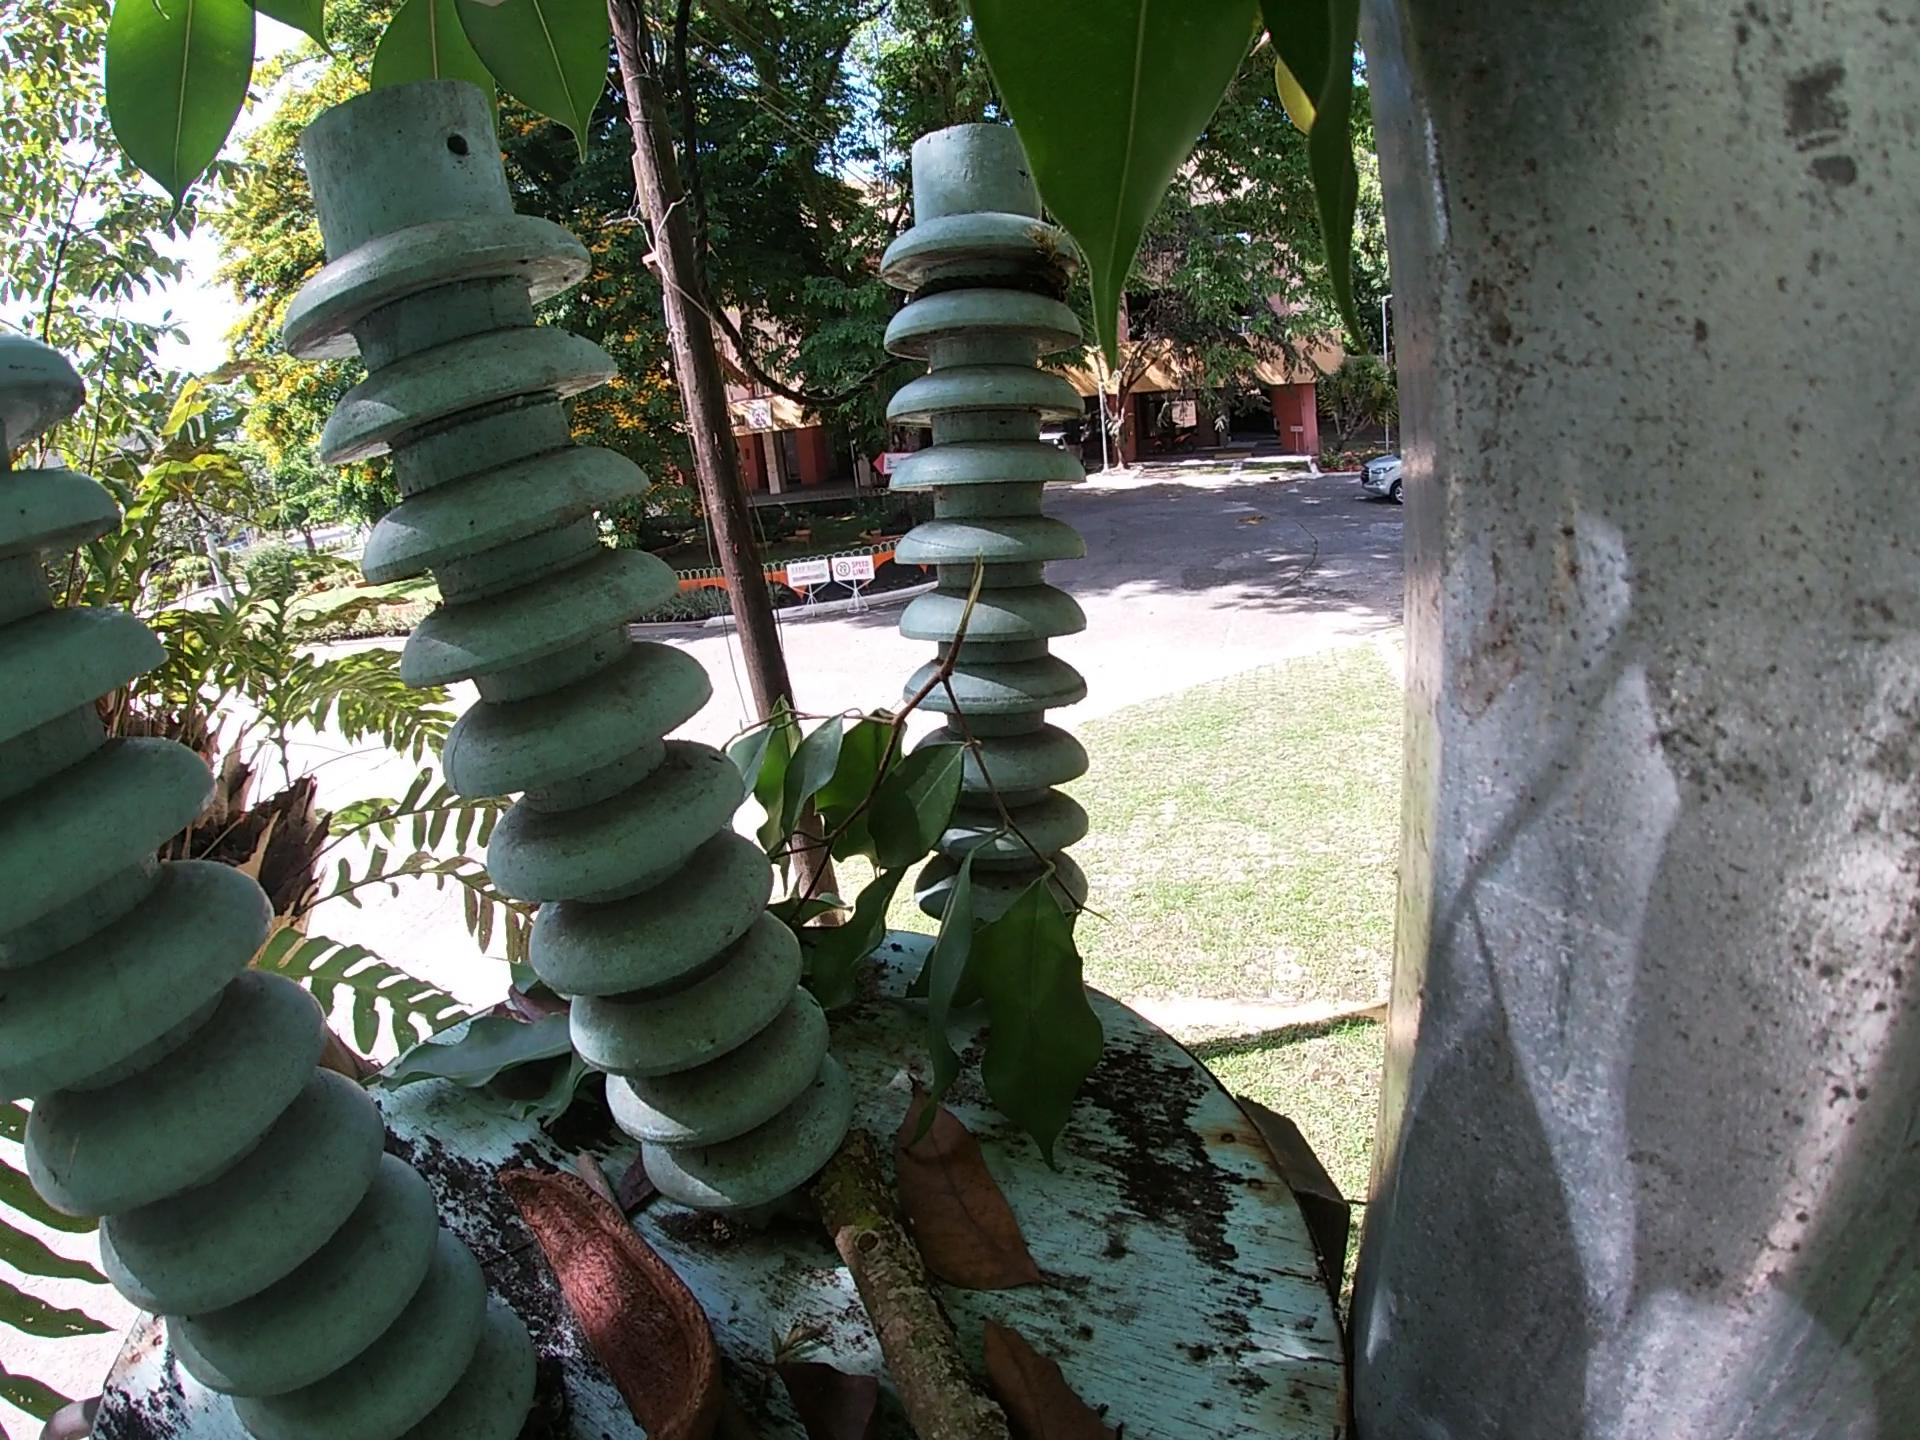branch with leaves: (714, 537, 1111, 1199)
leaf: (893, 1066, 1064, 1321), (395, 956, 615, 1144), (955, 1314, 1134, 1440), (759, 1333, 900, 1440)
mahogany fruit: (485, 1163, 709, 1434), (490, 973, 588, 1035)
tree branch: (810, 1121, 1017, 1440), (574, 1134, 629, 1234)
